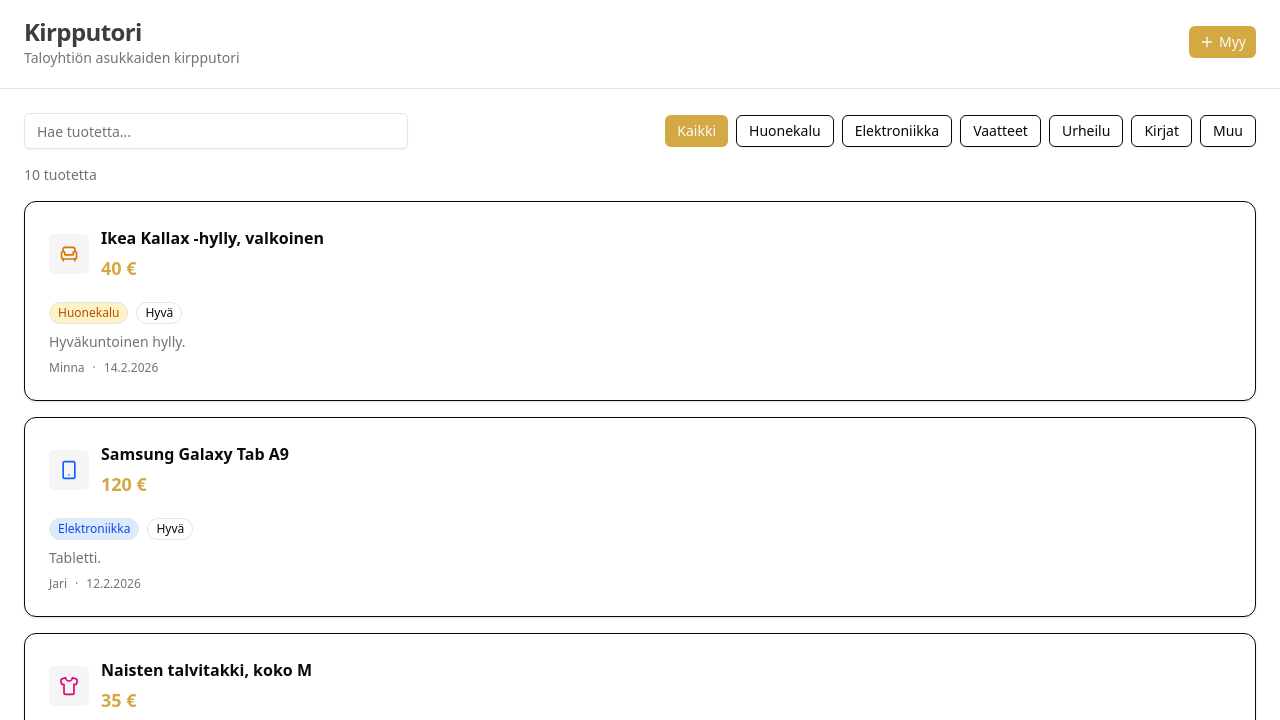
Test case: MarketplaceList › opens create dialog when sell button is clicked
The image size is (1280, 720).
Click the button "Myy" at (1222, 42), box top-left (1189, 26), bottom-right (1256, 58)
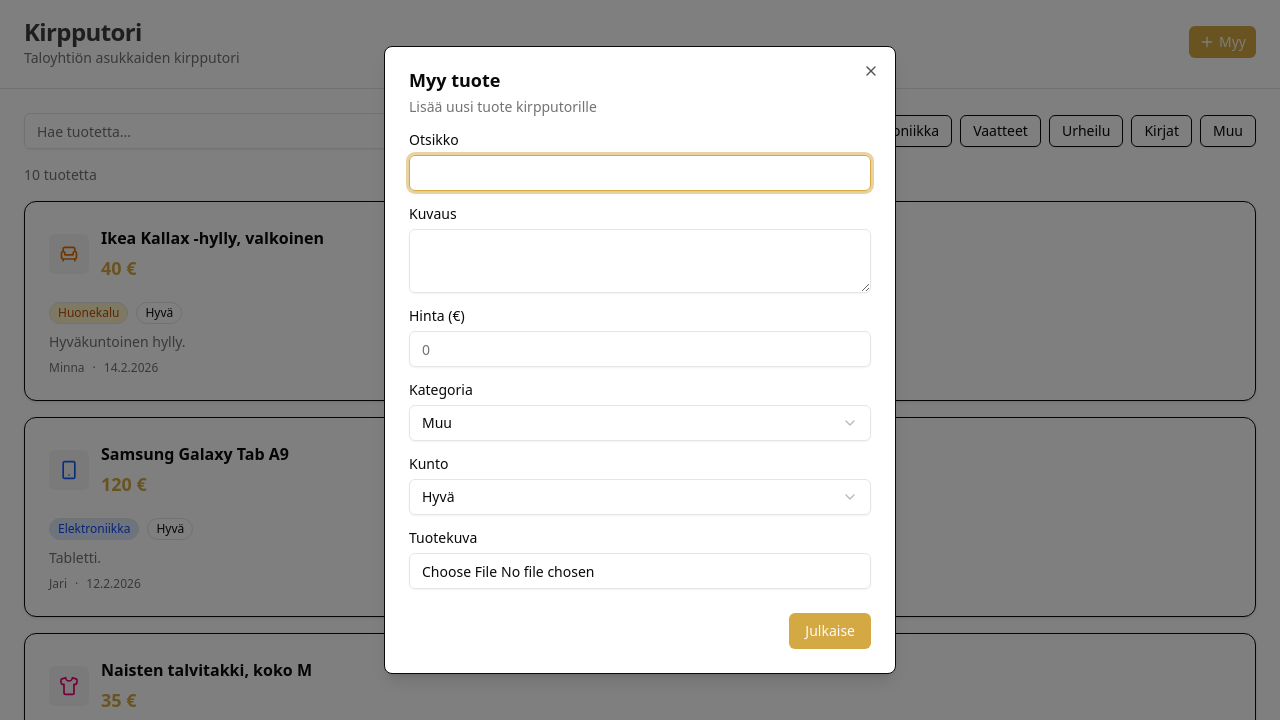
expect the heading "Myy tuote" is shown: met, box top-left (409, 68), bottom-right (500, 92)
expect the text "Lisää uusi tuote kirpputorille" is shown: met, box top-left (409, 97), bottom-right (597, 116)
